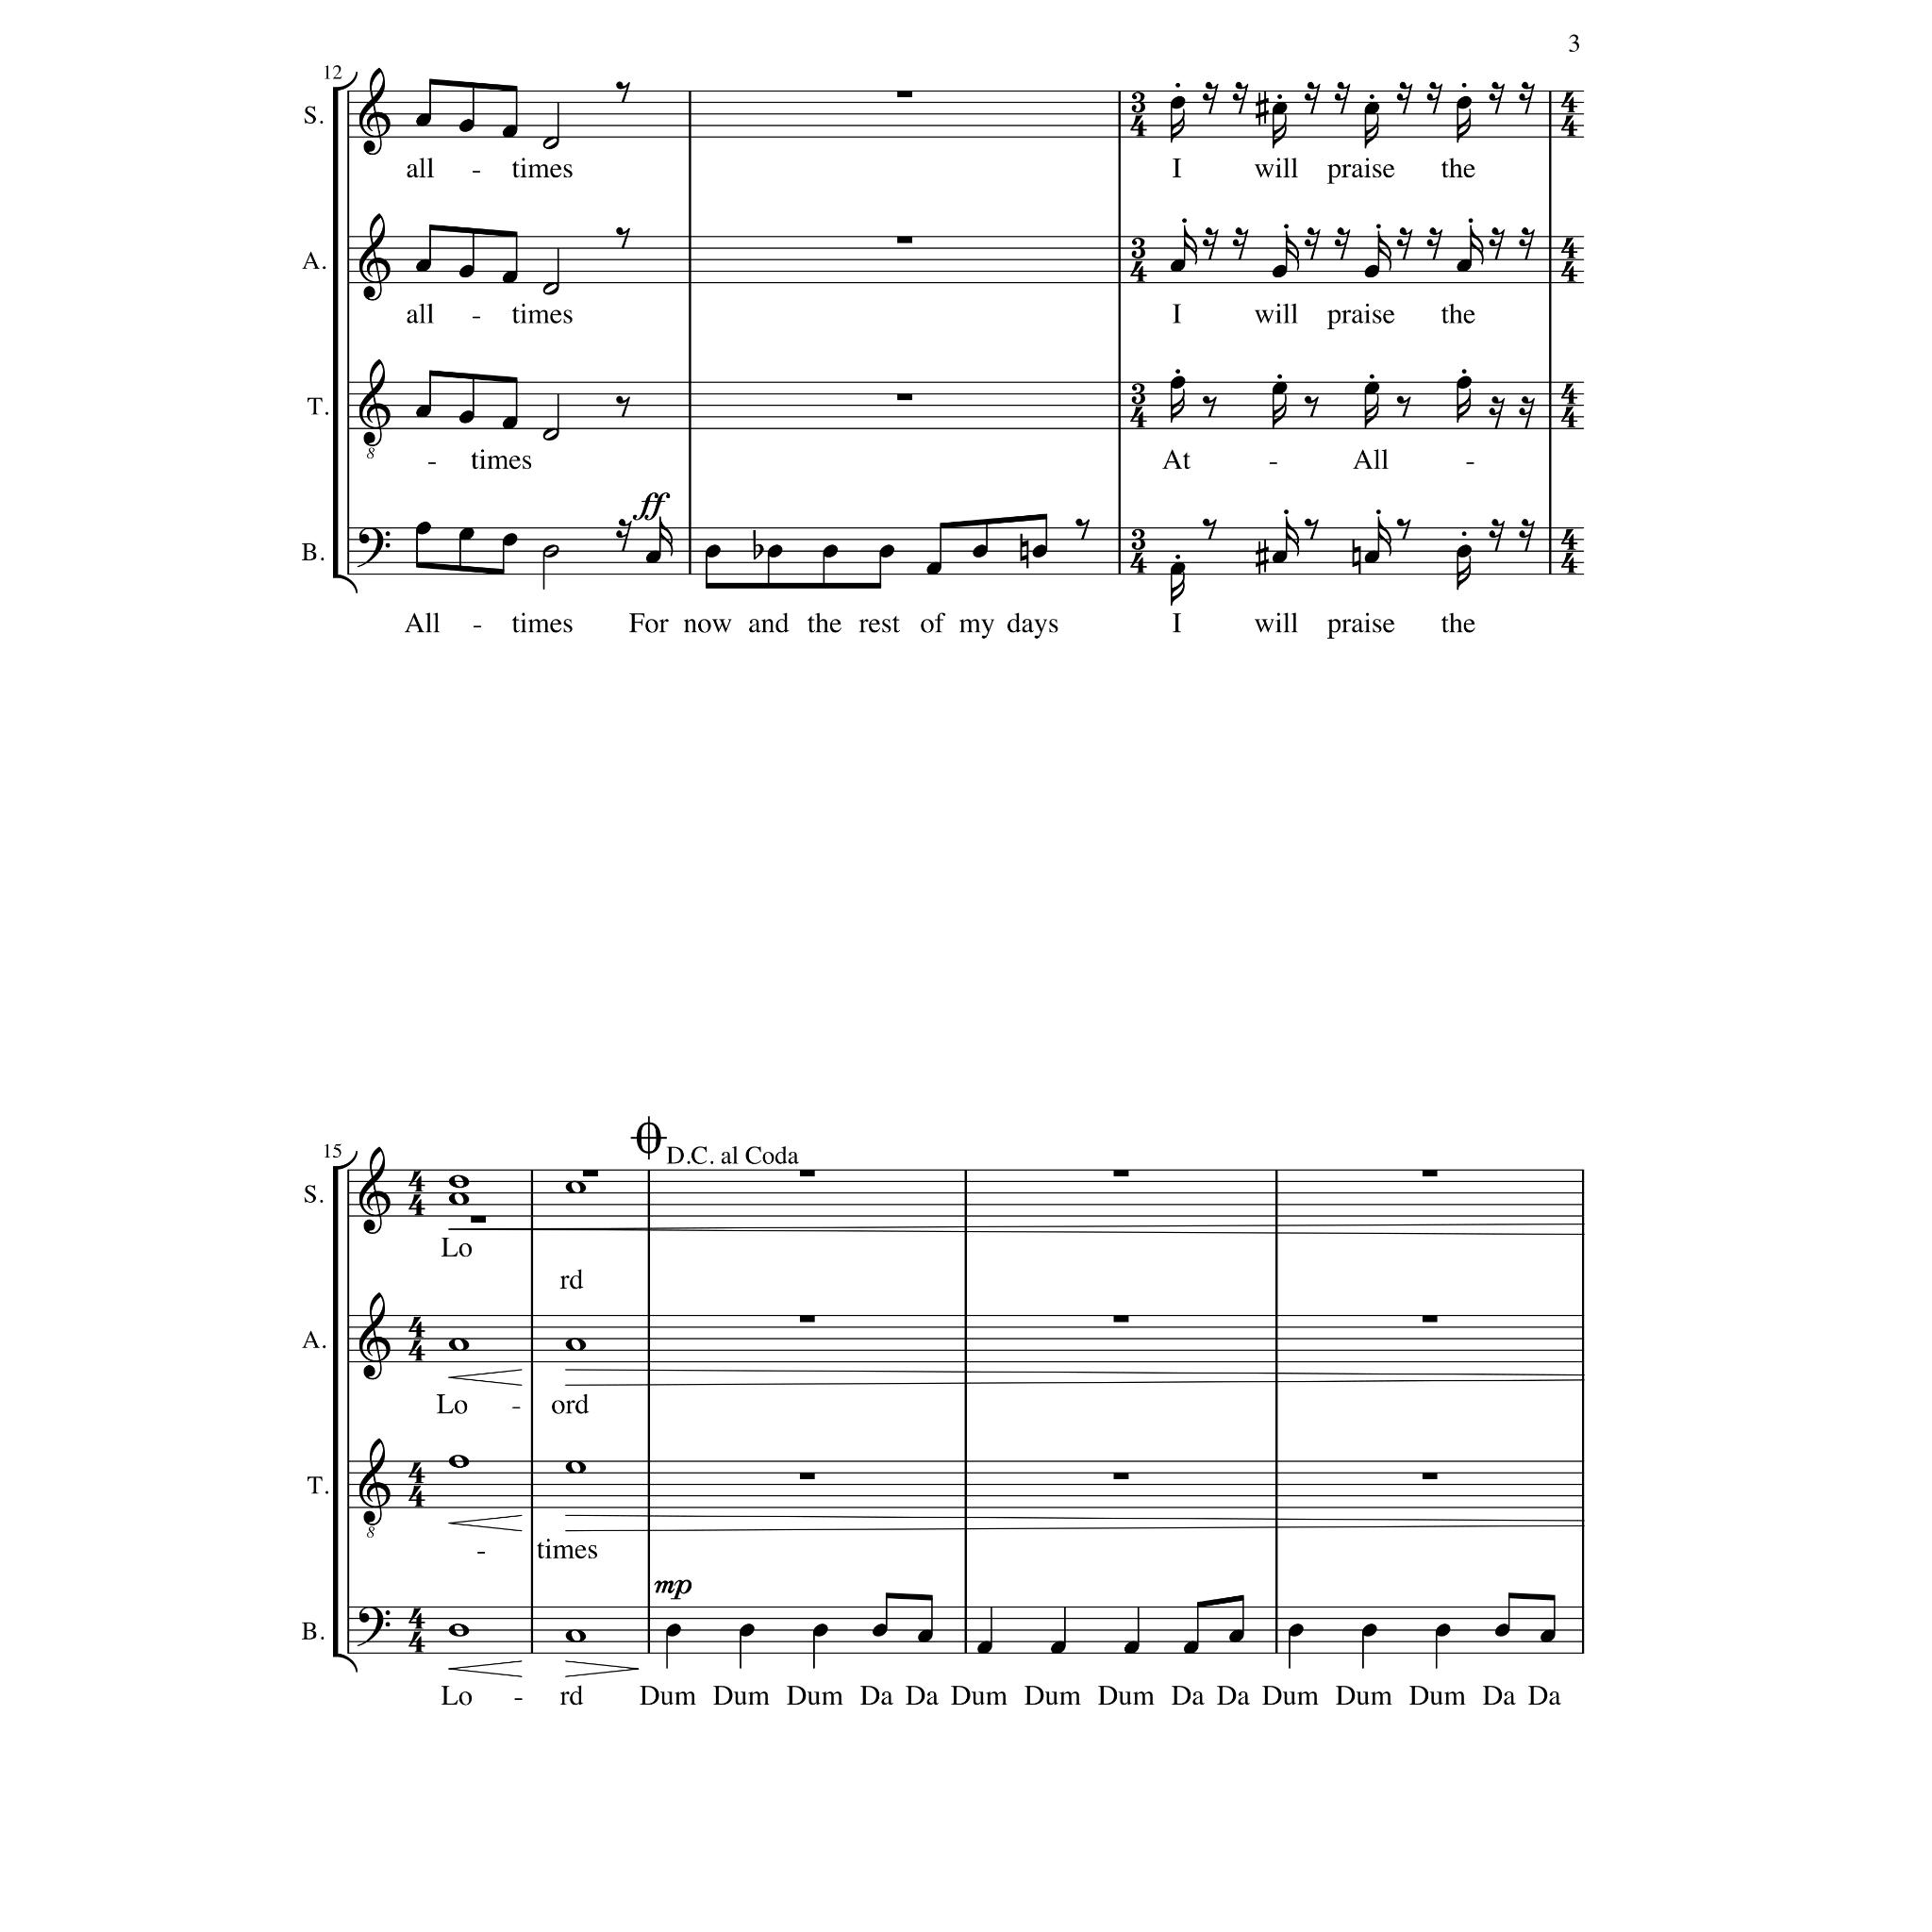fClef: (357, 527, 391, 568), (357, 1606, 391, 1647)
flag16thDown: (1364, 115, 1380, 150), (1364, 395, 1380, 428), (1169, 571, 1184, 607), (1272, 115, 1286, 150), (1458, 387, 1472, 423), (1458, 556, 1472, 591), (1169, 387, 1184, 423), (1272, 395, 1286, 428), (1458, 110, 1472, 143), (1169, 110, 1184, 143)
flag16thUp: (1378, 517, 1392, 557), (1470, 225, 1484, 265), (1184, 225, 1198, 265), (1378, 232, 1392, 271), (1286, 517, 1299, 557), (660, 517, 672, 557), (1286, 232, 1299, 271)
gClef: (359, 67, 391, 156), (359, 214, 391, 303), (359, 359, 391, 448), (359, 1438, 391, 1527), (359, 1292, 391, 1380), (359, 1146, 391, 1235)
noteheadBlack: (1270, 550, 1288, 564), (971, 545, 989, 559), (644, 550, 662, 564), (1228, 1629, 1246, 1644), (1364, 550, 1380, 564), (1456, 96, 1472, 110), (1456, 545, 1472, 559), (501, 271, 517, 285), (501, 416, 517, 430), (501, 533, 517, 547), (458, 119, 474, 133), (458, 527, 474, 541), (1031, 545, 1047, 559), (879, 545, 895, 559), (1169, 96, 1185, 110), (704, 545, 720, 559), (766, 545, 782, 559), (823, 545, 839, 559), (918, 1629, 934, 1644), (1184, 1640, 1200, 1654), (1049, 1640, 1065, 1654), (1123, 1640, 1139, 1654), (977, 1640, 993, 1654), (1539, 1629, 1555, 1644), (1270, 103, 1288, 115), (1270, 265, 1288, 278), (1270, 382, 1288, 395), (1364, 382, 1380, 395), (1364, 103, 1380, 115), (1364, 265, 1380, 278), (1456, 260, 1472, 272), (1456, 377, 1472, 389), (501, 126, 517, 138), (458, 265, 474, 278), (458, 410, 474, 423), (416, 260, 432, 272), (416, 405, 432, 418), (416, 522, 432, 534), (416, 113, 432, 126), (925, 563, 941, 575), (1169, 260, 1185, 272), (1169, 377, 1185, 389), (1169, 563, 1185, 575), (1288, 1624, 1304, 1637), (1435, 1624, 1451, 1637), (1361, 1624, 1376, 1637), (665, 1624, 681, 1637), (870, 1624, 886, 1637), (812, 1624, 828, 1637), (740, 1624, 755, 1637), (1495, 1624, 1509, 1637)
noteheadHalf: (543, 136, 559, 150), (543, 281, 559, 295), (543, 428, 559, 442), (543, 545, 559, 559)
noteheadWhole: (448, 1338, 469, 1352), (448, 1175, 469, 1189), (448, 1192, 469, 1207), (448, 1454, 469, 1468), (564, 1629, 586, 1644), (564, 1460, 586, 1474), (564, 1338, 586, 1352), (564, 1180, 586, 1194), (448, 1624, 469, 1637)
rest16th: (1518, 396, 1536, 430), (1518, 518, 1536, 552), (1488, 396, 1506, 430), (1488, 518, 1506, 552), (1334, 83, 1352, 115), (1334, 228, 1352, 260), (1396, 228, 1414, 260), (1396, 83, 1414, 115), (1201, 83, 1219, 115), (1201, 228, 1219, 260), (1231, 83, 1249, 115), (1231, 228, 1249, 260), (1518, 83, 1536, 115), (1518, 228, 1536, 260), (1488, 83, 1506, 115), (1488, 228, 1506, 260), (616, 518, 632, 552), (1304, 83, 1320, 115), (1304, 228, 1320, 260), (1426, 83, 1442, 115), (1426, 228, 1442, 260)
rest8th: (1396, 396, 1412, 419), (1201, 396, 1217, 419), (1201, 518, 1217, 541), (1396, 518, 1412, 541), (1074, 518, 1090, 541), (1304, 518, 1318, 541), (1304, 396, 1318, 419), (616, 81, 630, 104), (616, 396, 630, 419), (616, 228, 630, 249)
restWhole: (897, 393, 913, 402), (1113, 1472, 1129, 1481), (798, 1315, 814, 1323), (798, 1472, 814, 1481), (1113, 1315, 1129, 1323), (471, 1215, 487, 1224), (1421, 1472, 1437, 1481), (1421, 1315, 1437, 1323), (897, 237, 913, 244), (897, 90, 913, 97), (582, 1169, 598, 1177), (798, 1169, 814, 1177), (1113, 1169, 1129, 1177), (1421, 1169, 1437, 1177)
